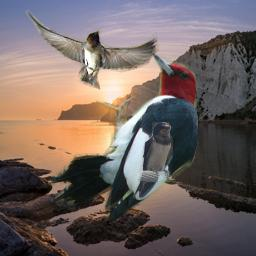Swallow: (25, 10, 160, 91), (133, 122, 173, 199)
Woodpecker: (48, 52, 198, 224)
